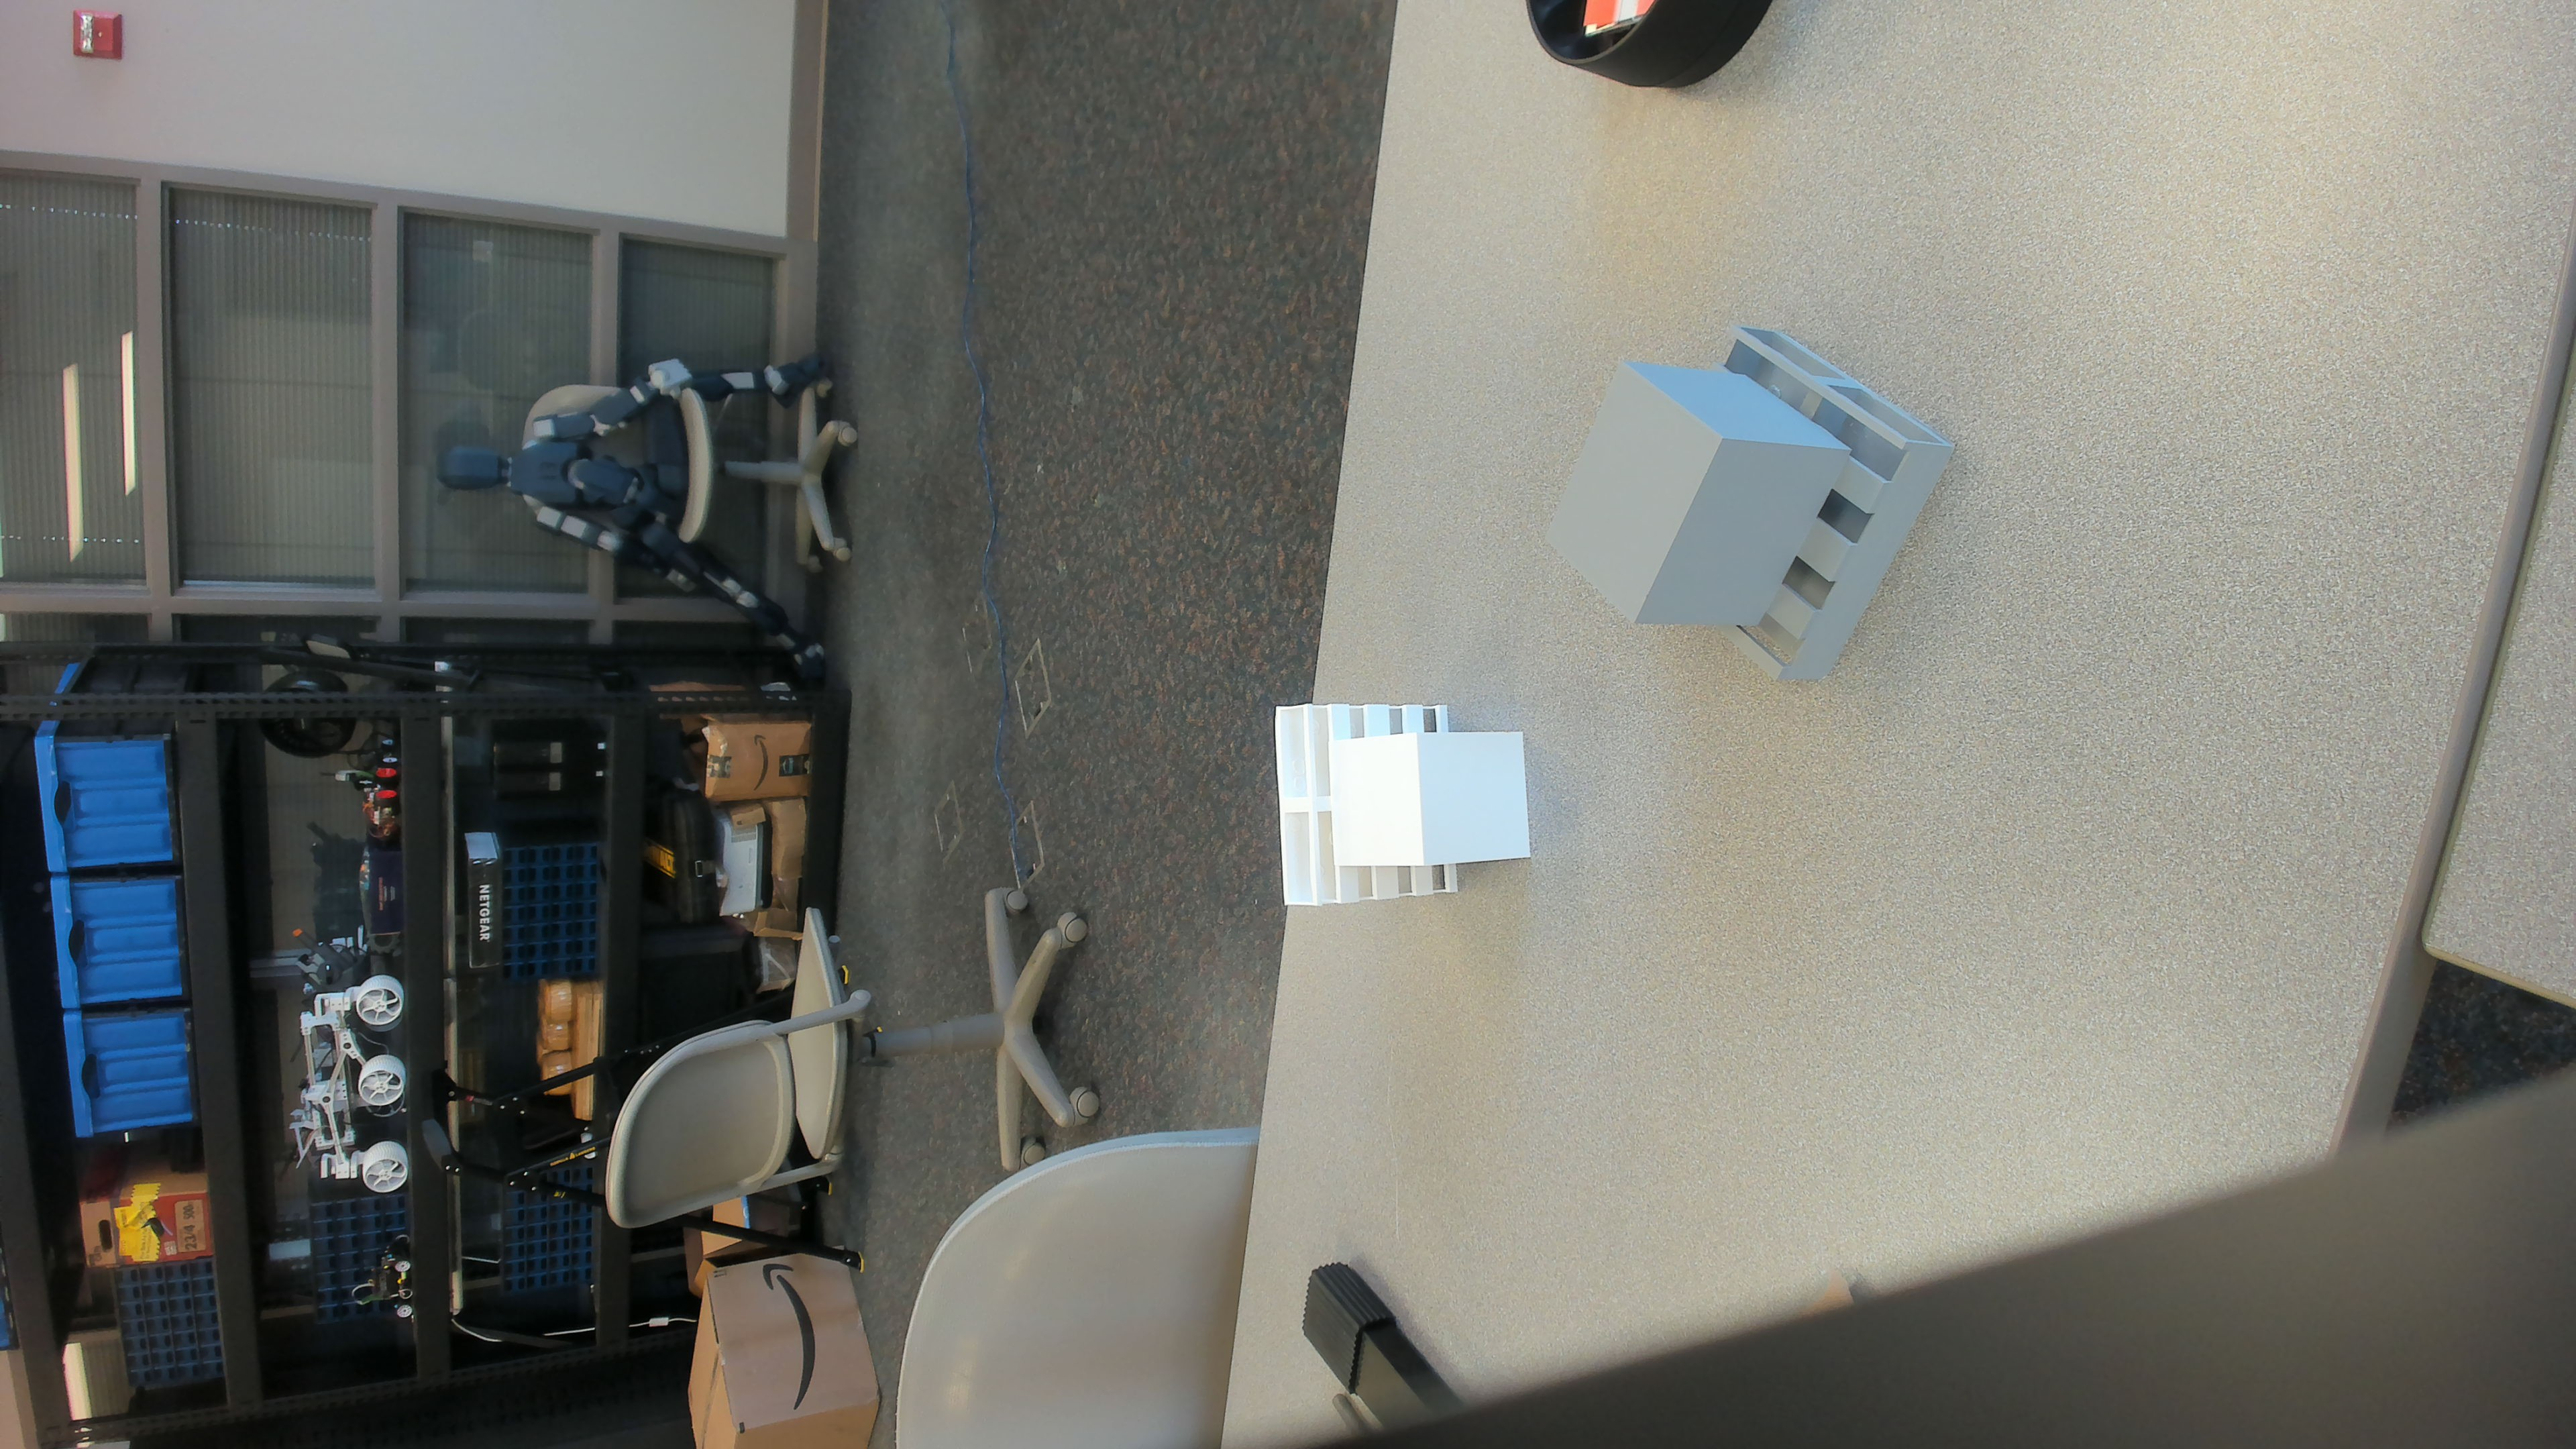grey pallet: (1534, 320, 1982, 717)
white pallet: (1254, 679, 1545, 932)
